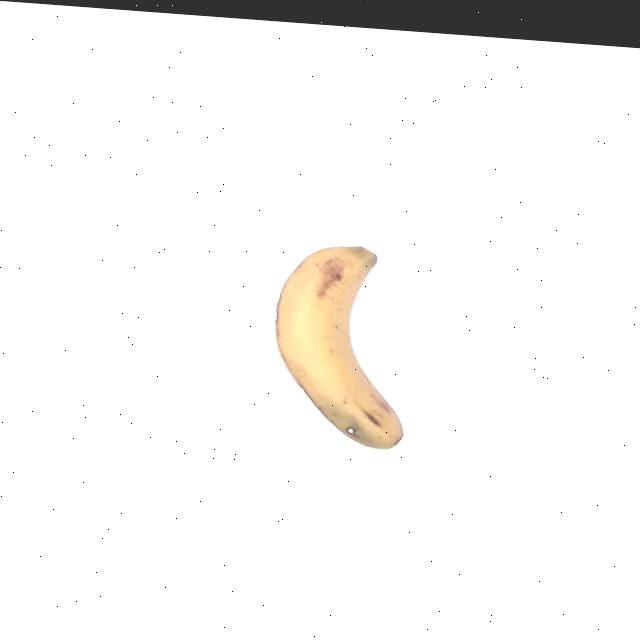banana: (271, 236, 412, 455)
